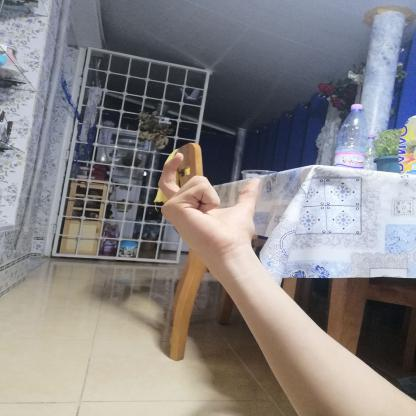NOON: (142, 147, 273, 264)
